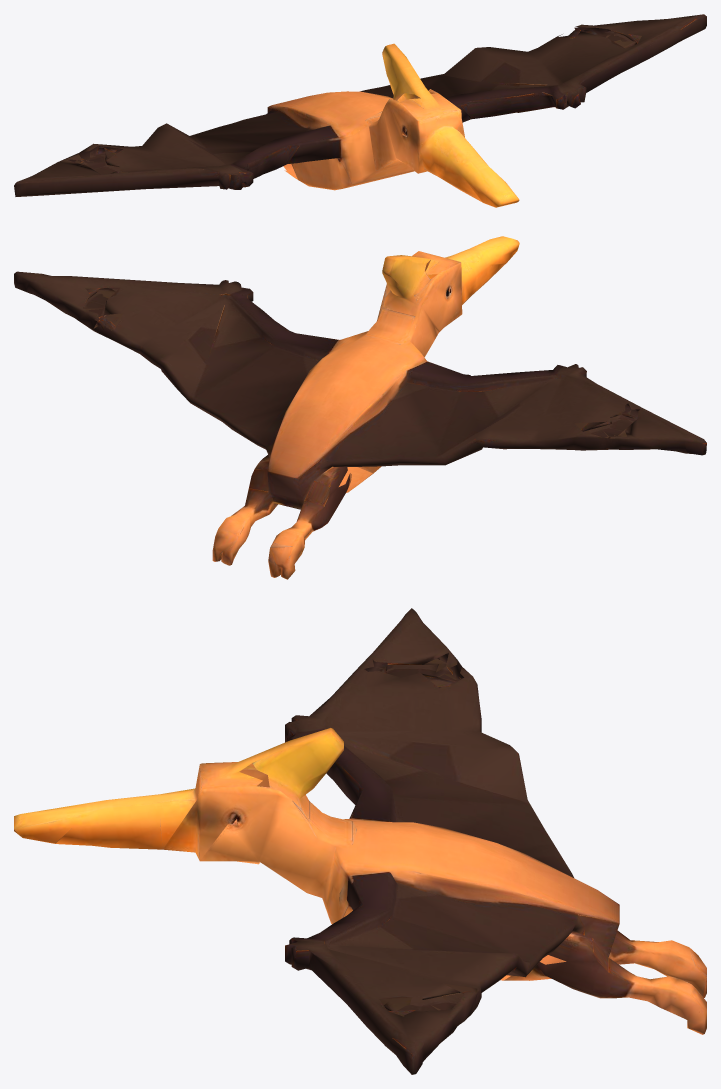
File: pterosaur.glb
3 renders of one model, top to bottom at view 1: azimuth 30°, elevation 25°; view 2: azimuth 150°, elevation 25°; view 3: azimuth 270°, elevation 25°, orthographic. The views are drawn at different scales.
Parts seen in each view (by area): view 1: Mesh1.0; view 2: Mesh1.0; view 3: Mesh1.0.
Part boxes in pixels (x1,y1,x2,y2): Mesh1.0: (14,14,706,207); Mesh1.0: (14,236,706,579); Mesh1.0: (14,608,706,1074).
Bounding box in the file's own units: 1.91 × 0.5597 × 1.24.
Materials: 1 (1 with a texture image).
